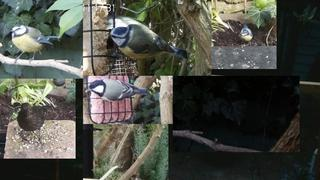blackbird: (16, 103, 52, 147)
blue tit: (107, 24, 187, 60), (9, 24, 59, 65), (238, 24, 253, 46)
great tit: (85, 79, 149, 101)
